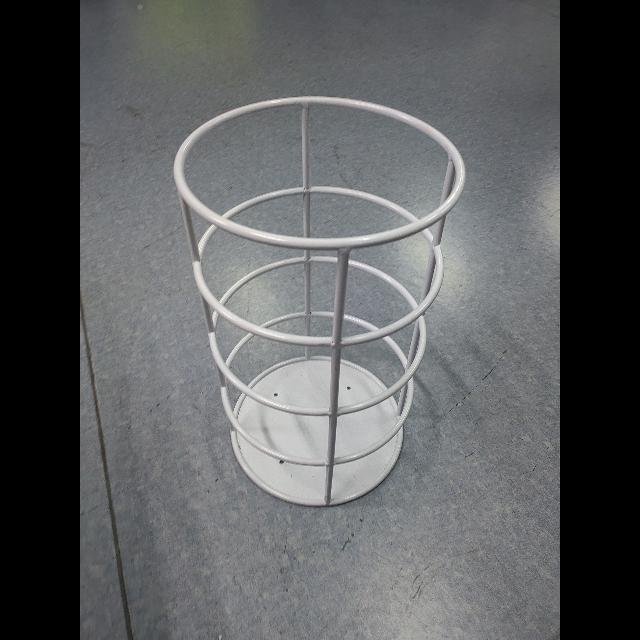S: (168, 90, 472, 510)
